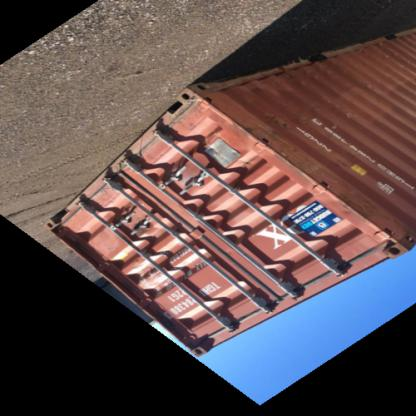Damage: (294, 153, 342, 195), (336, 200, 390, 232), (247, 124, 279, 154), (299, 51, 336, 69)
